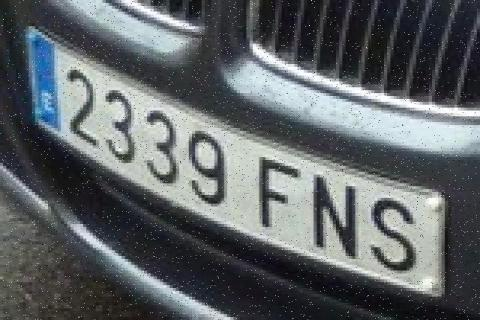LicensePlate: (17, 13, 454, 300)
